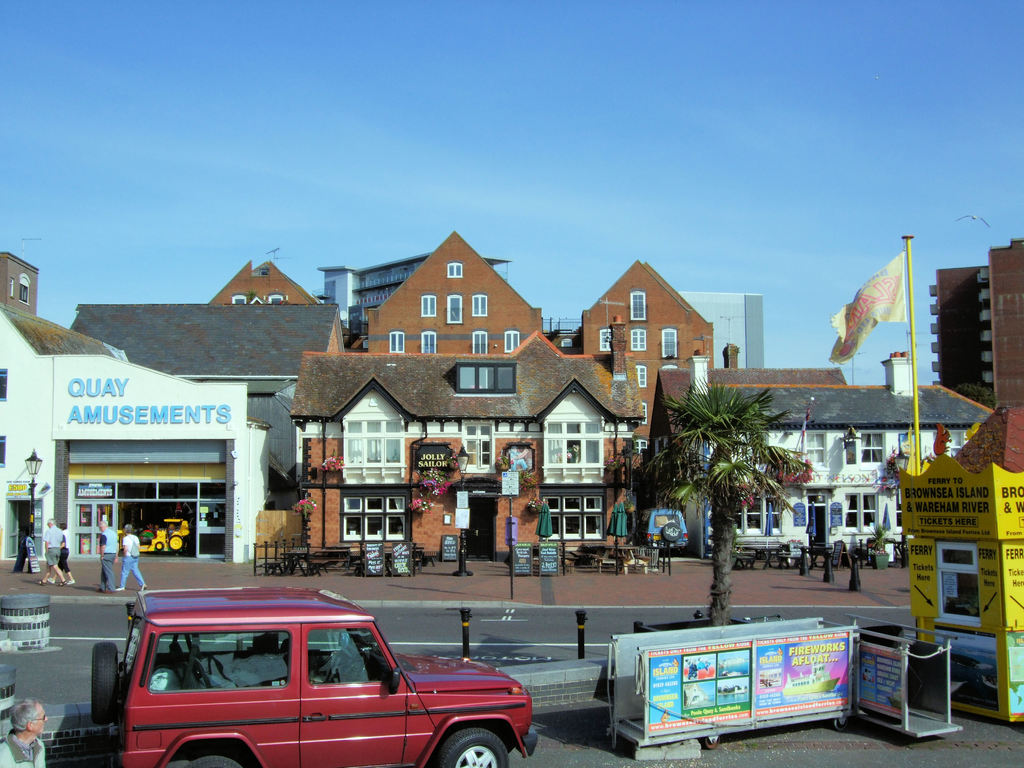cars: (90, 589, 540, 767)
